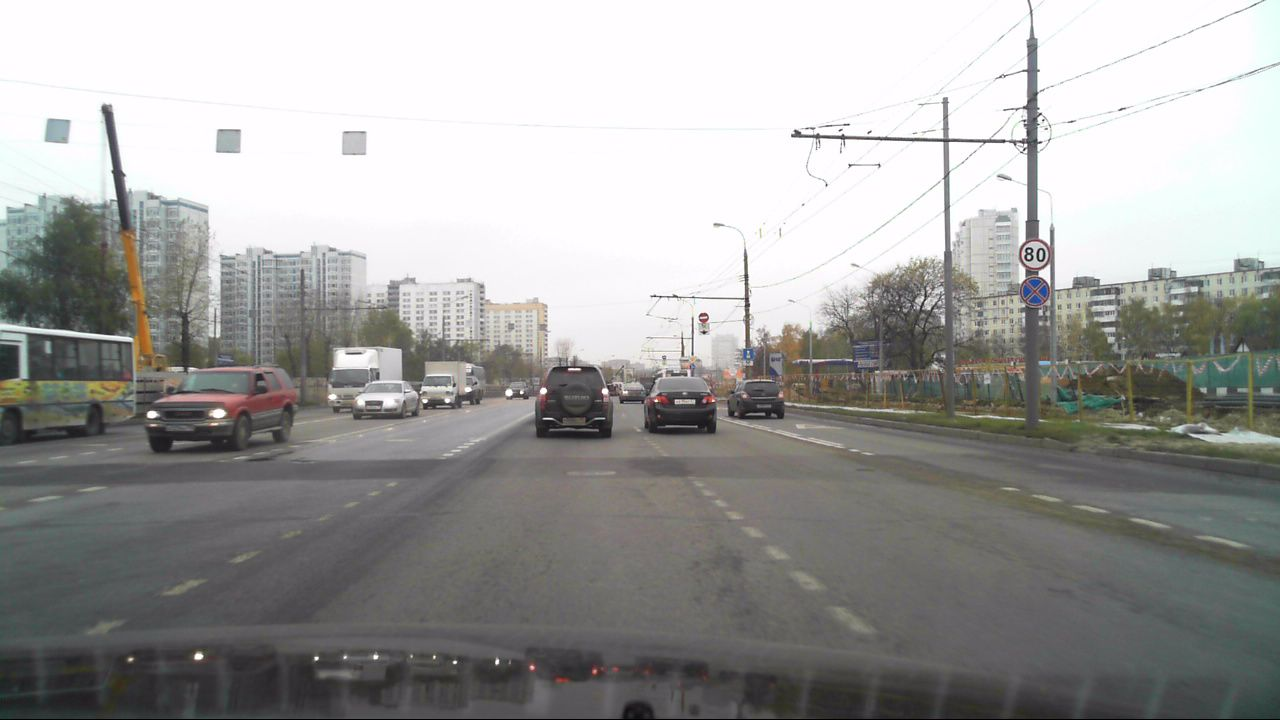No Parking: (1019, 276, 1051, 308)
